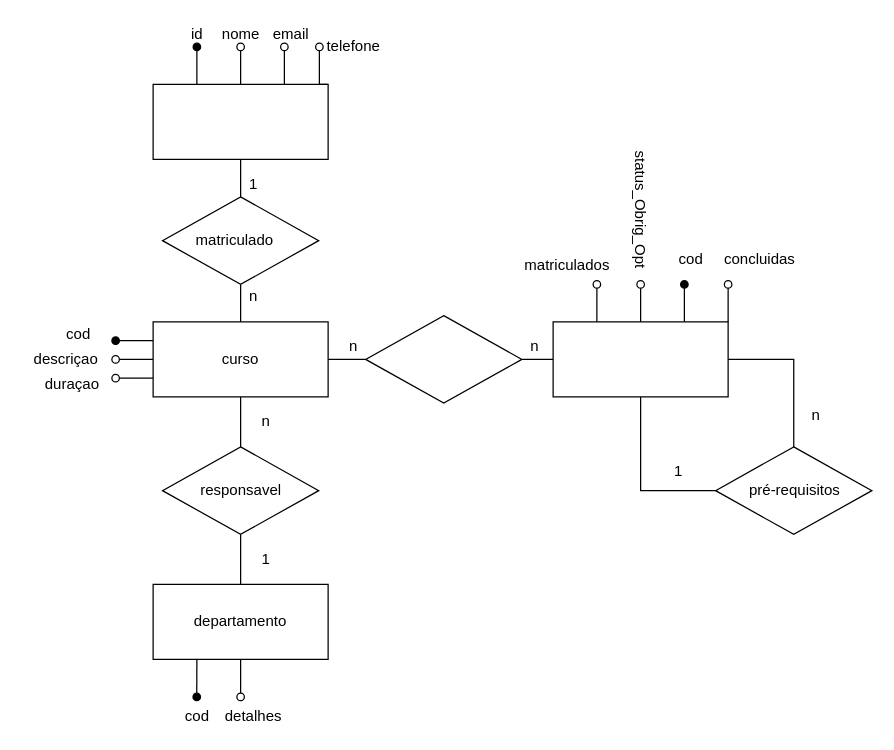
Some shapes in this 894 by 750 pixel diagram are drawn without their labels. The centre of each missing label's shape, as x and y in pixels:
"Aluno" goes at [240,121].
"diciplina" goes at [640,359].
"tem" goes at [443,358].
